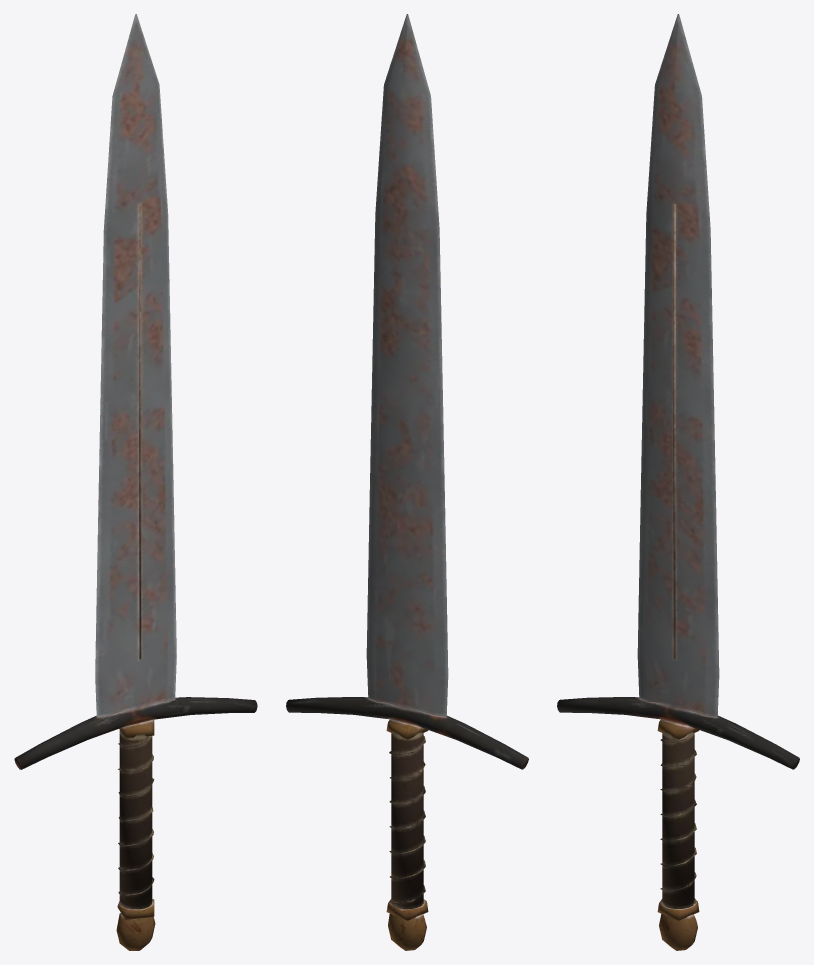
The model's file is eq_greatsword_1_lod1.glb.
The picture shows the model from 3 angles, left to right: view 1: azimuth 30°, elevation 25°; view 2: azimuth 150°, elevation 25°; view 3: azimuth 330°, elevation 25°; orthographic projection.
Parts seen in each view (by area): view 1: eq_greatsword_1_lod1; view 2: eq_greatsword_1_lod1; view 3: eq_greatsword_1_lod1.
Boxes of the visible parts, bbox=[...] form: eq_greatsword_1_lod1: bbox=[14, 14, 257, 950]; eq_greatsword_1_lod1: bbox=[286, 14, 528, 950]; eq_greatsword_1_lod1: bbox=[557, 14, 799, 950].
Bounding box in the file's own units: 0.4864 × 1.82 × 0.0714.
1 material, 1 textured.
